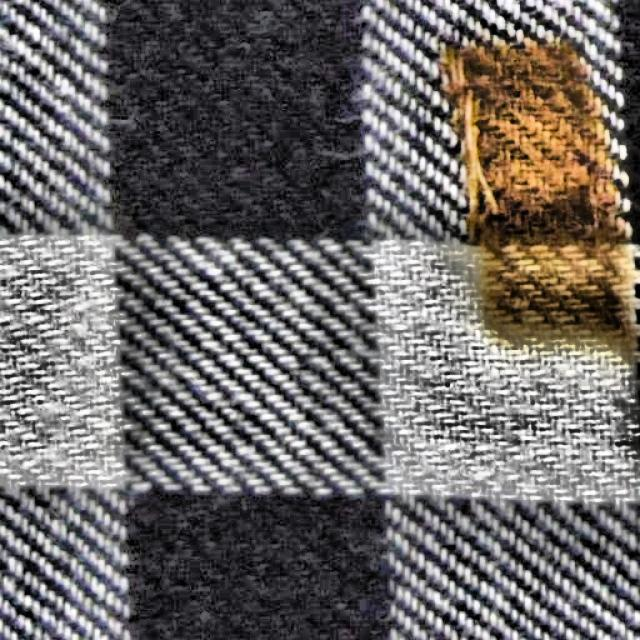Stitch: (427, 49, 522, 254)
